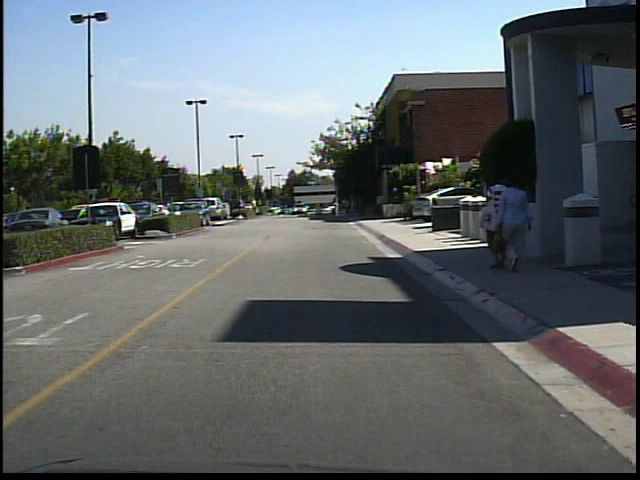person: (495, 173, 531, 273), (481, 171, 506, 275), (332, 196, 344, 221), (251, 198, 258, 213)
